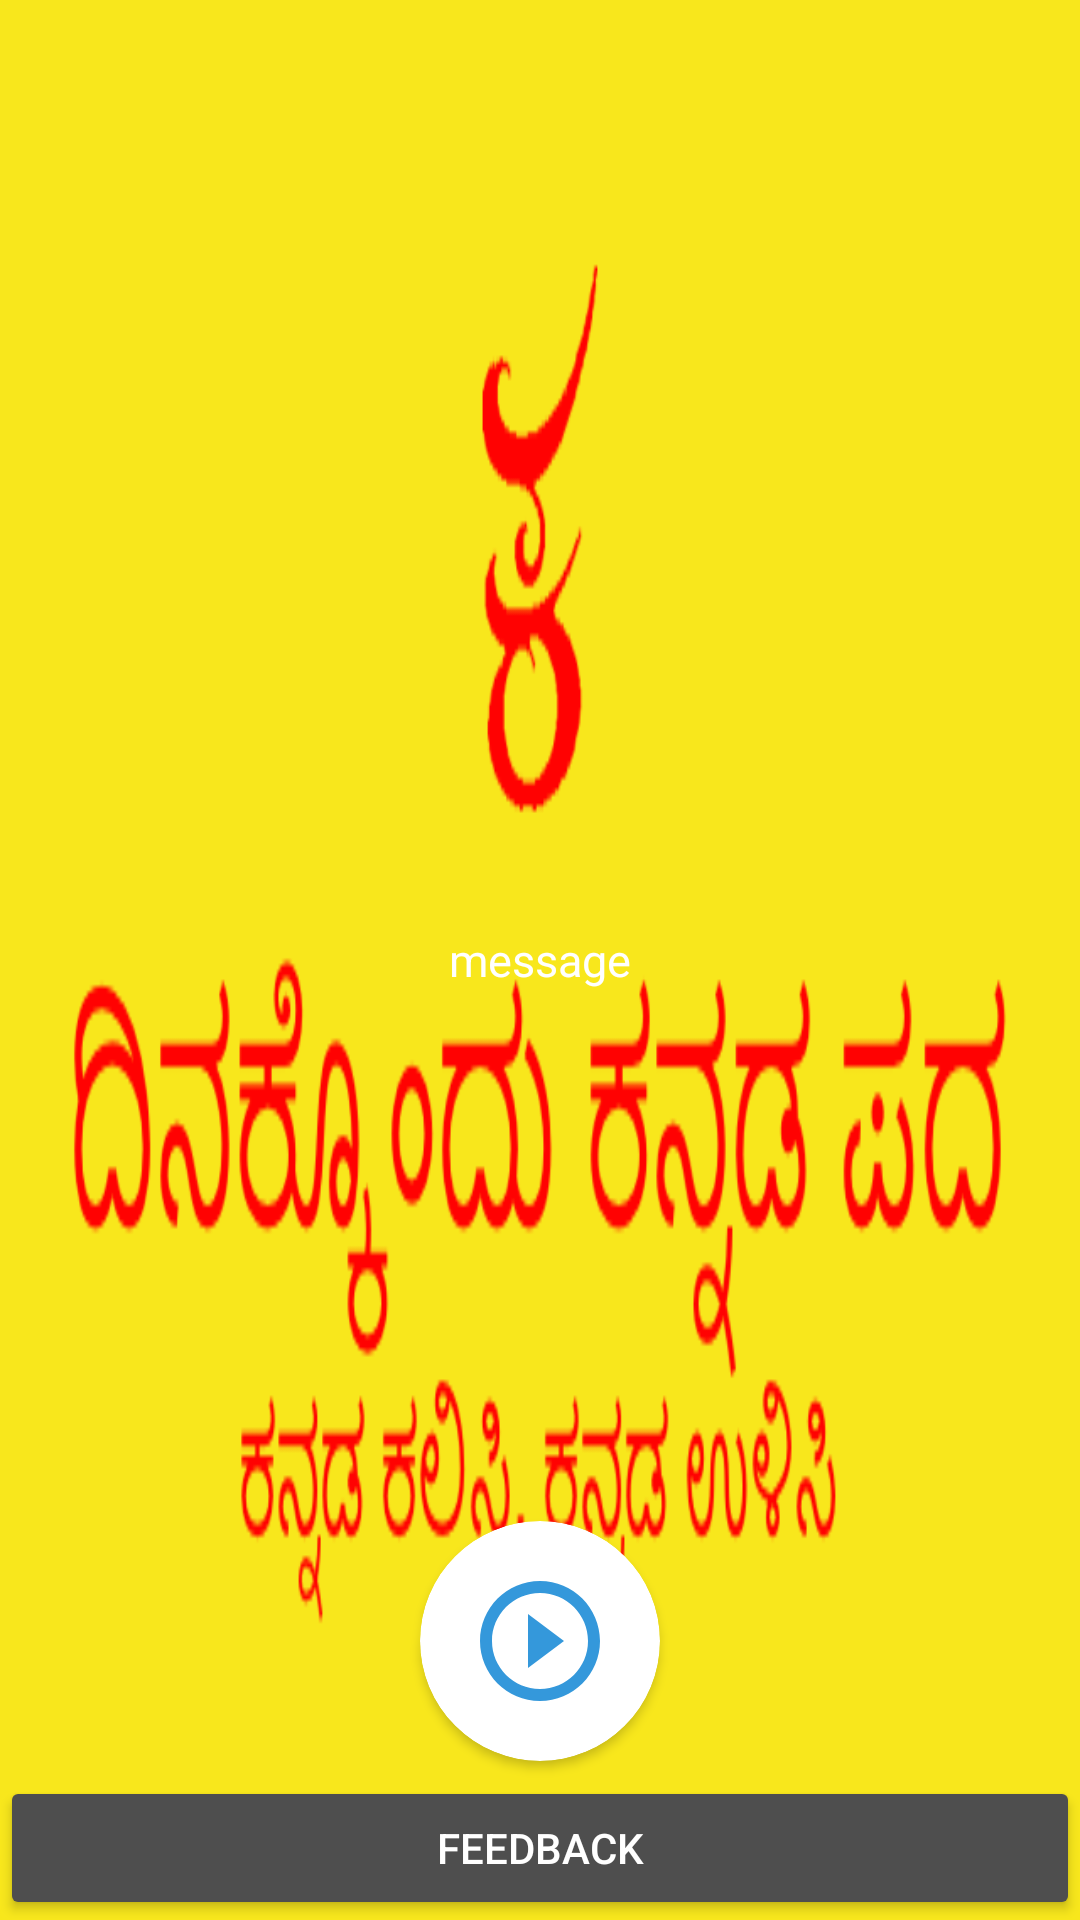

Where to tap for icons on this 1080 x 1920 app screen, as [x,y]:
play circle: [540,1641]
